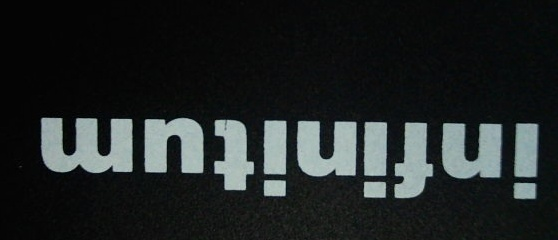BK_infinitum: (33, 113, 540, 203)
